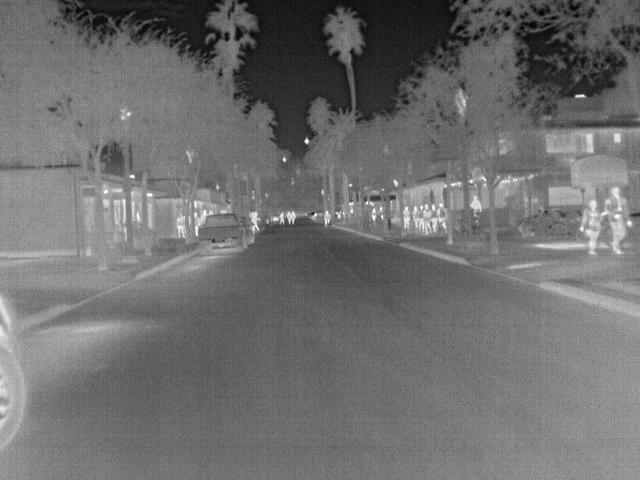car: (2, 296, 28, 456), (195, 214, 253, 256), (236, 213, 255, 245)
person: (603, 188, 632, 253), (578, 197, 609, 253), (437, 202, 450, 230), (175, 213, 189, 239), (423, 204, 435, 234), (468, 192, 486, 210), (402, 205, 414, 230), (251, 207, 263, 230), (410, 205, 422, 228), (197, 207, 210, 228), (321, 209, 333, 227), (192, 210, 200, 236), (369, 206, 381, 222), (375, 206, 387, 220), (290, 209, 298, 227), (278, 210, 287, 224), (286, 210, 293, 224)
